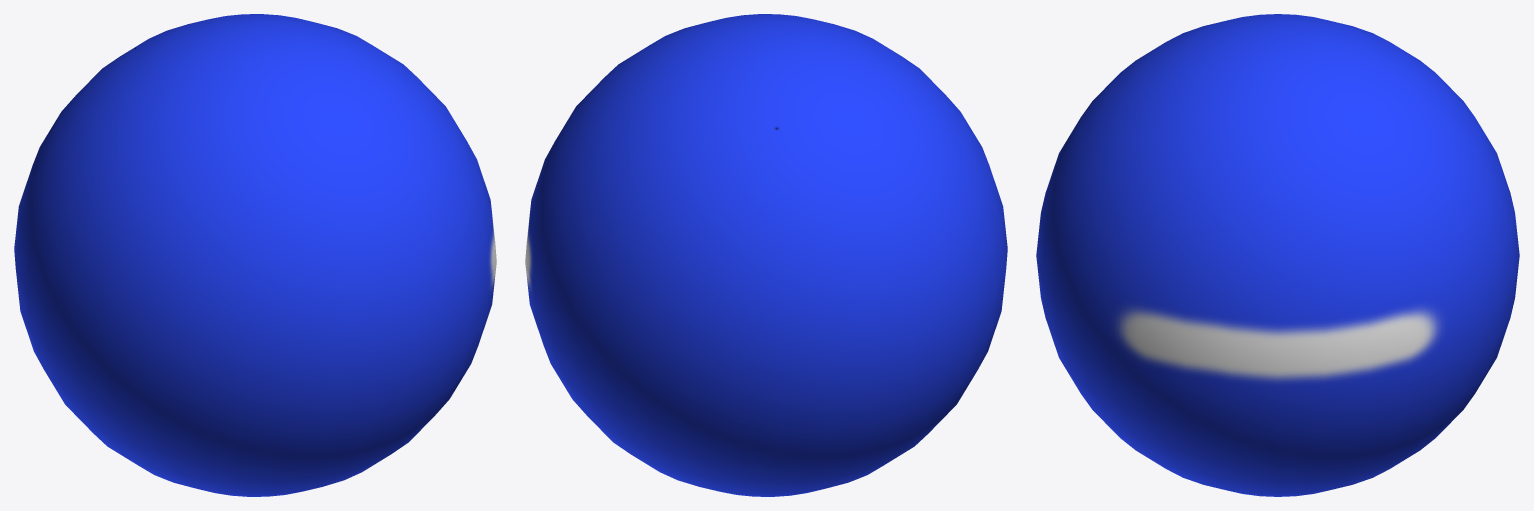
The model's file is electron.glb.
3 renders of one model, left to right at view 1: azimuth 30°, elevation 25°; view 2: azimuth 150°, elevation 25°; view 3: azimuth 270°, elevation 25°, orthographic.
Parts seen in each view (by area): view 1: Esfera; view 2: Esfera; view 3: Esfera.
Boxes of the visible parts, <box> form: Esfera: <box>14,14,496,496</box>; Esfera: <box>525,14,1007,496</box>; Esfera: <box>1036,14,1519,496</box>.
Size of the model in its own units: 2 by 2 by 2.
Materials: 1 (1 with a texture image).
